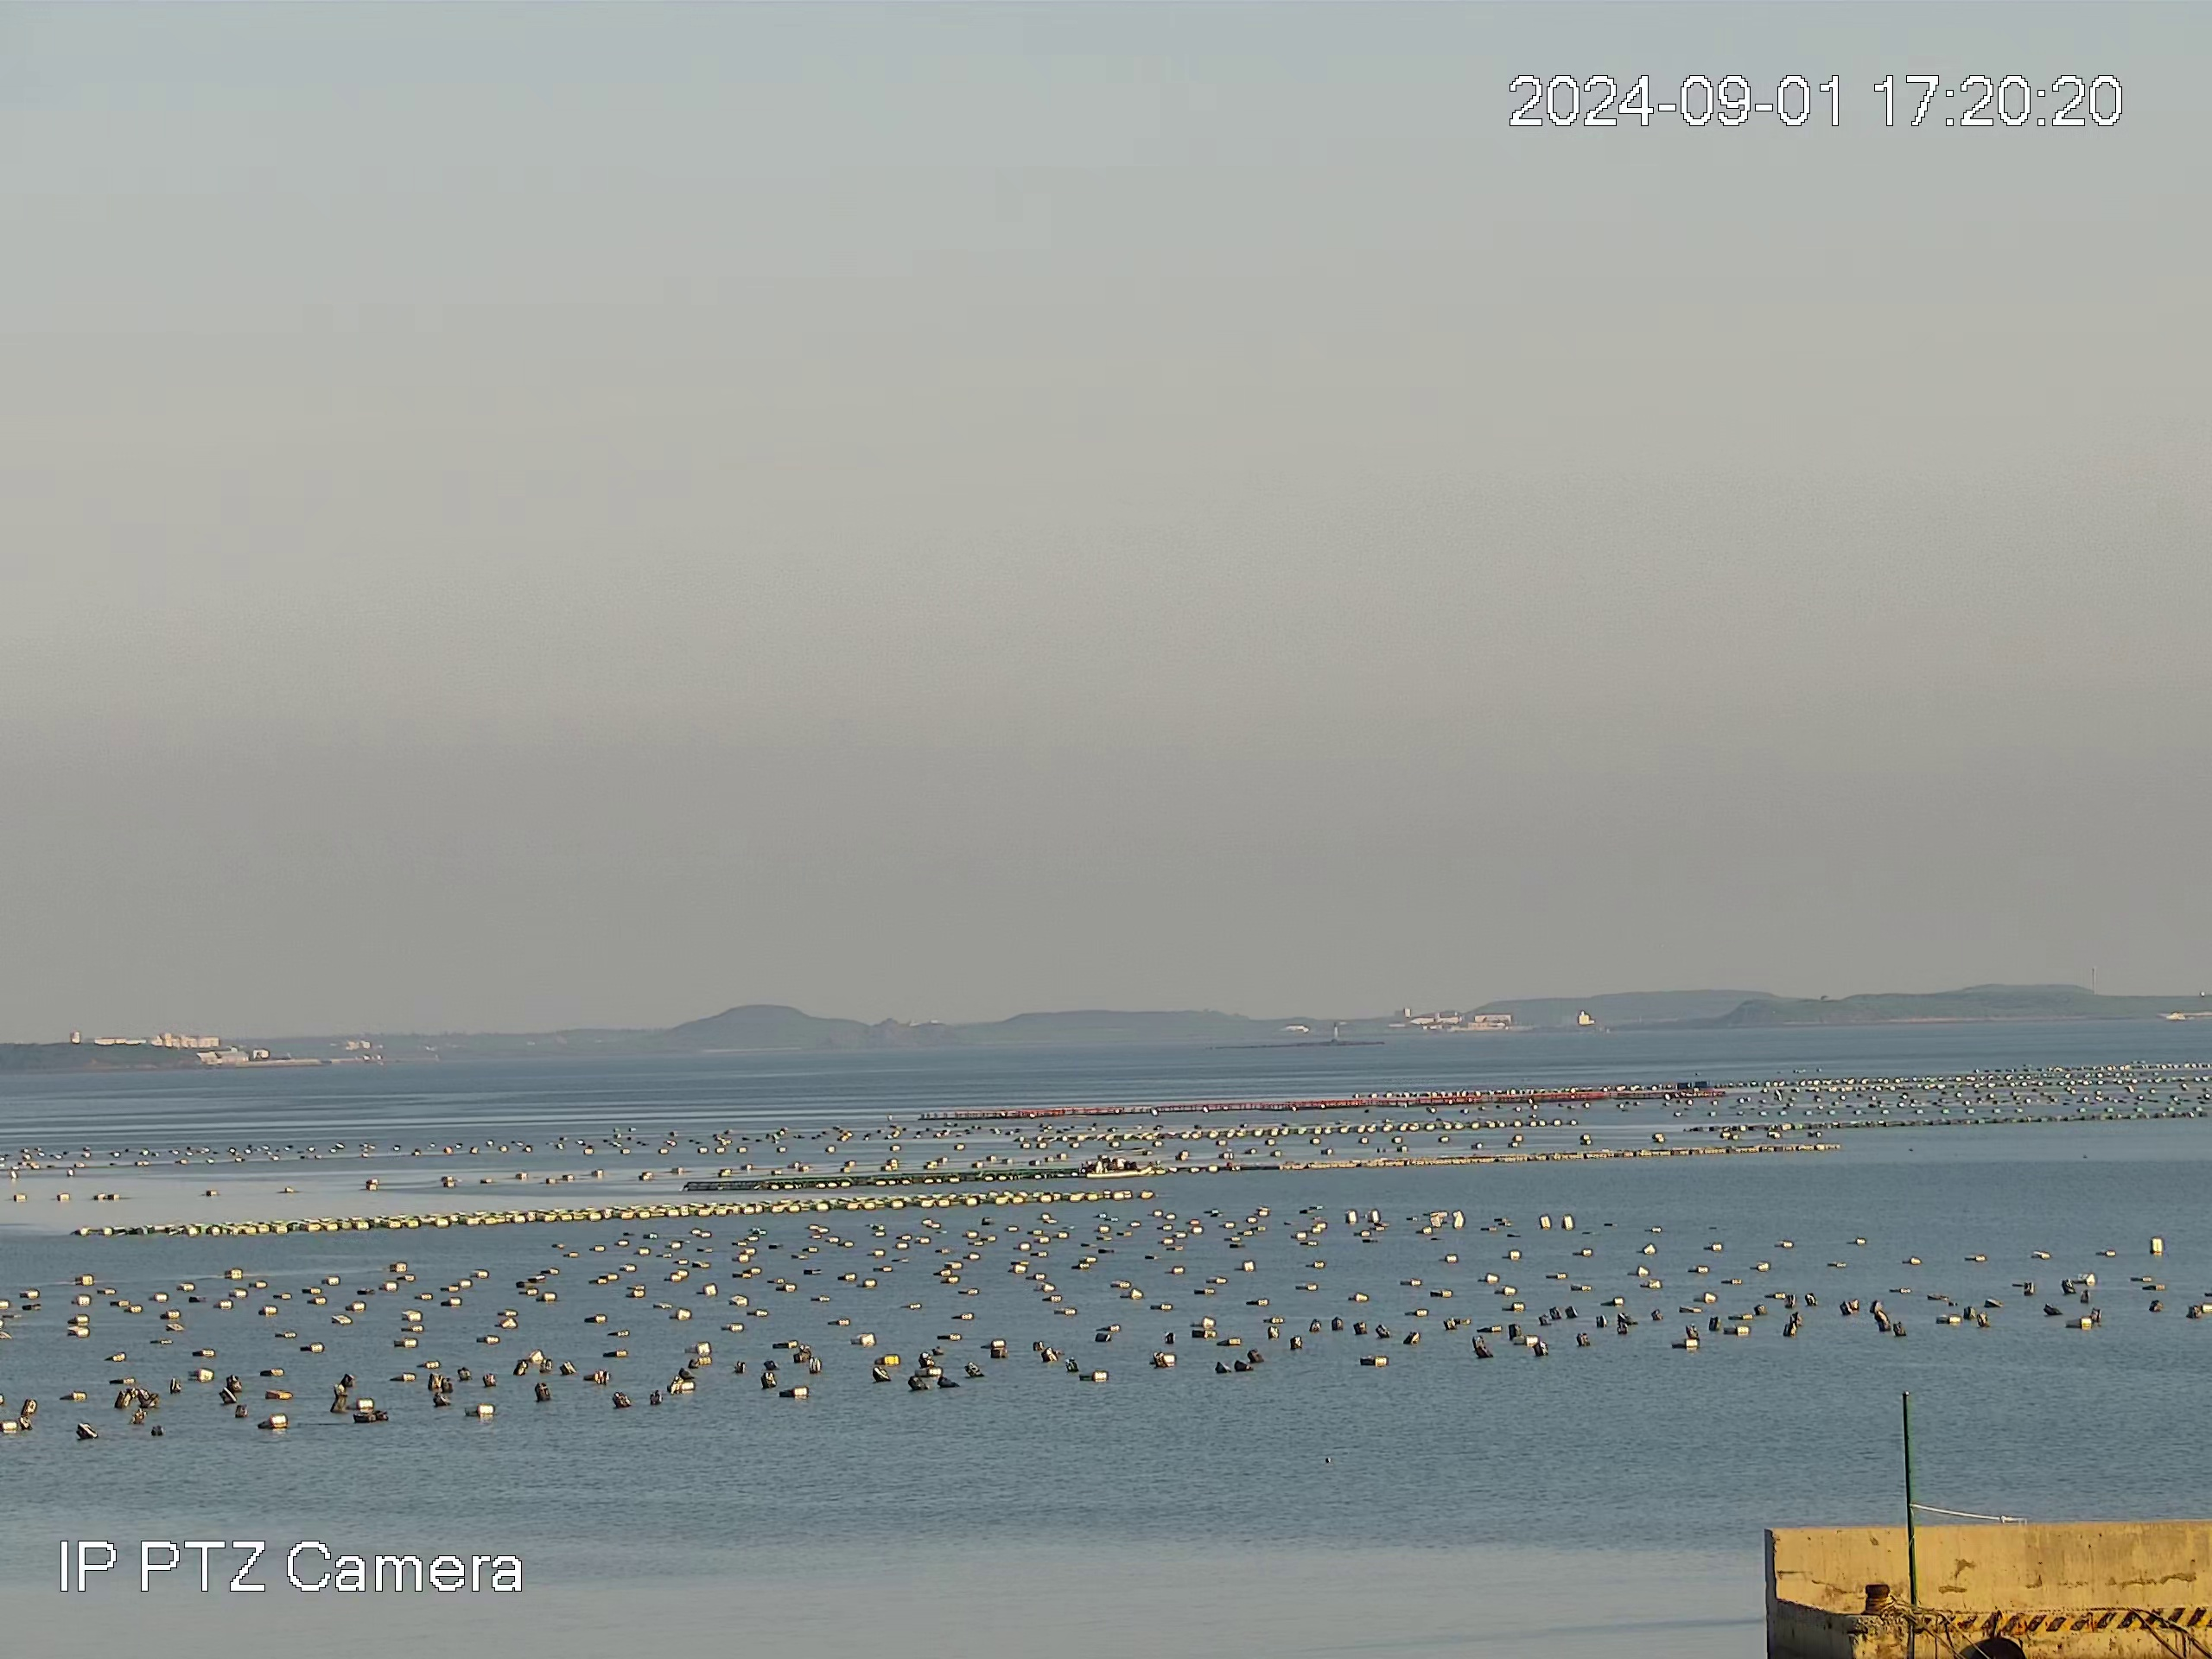boat: (1089, 1150, 1151, 1178)
